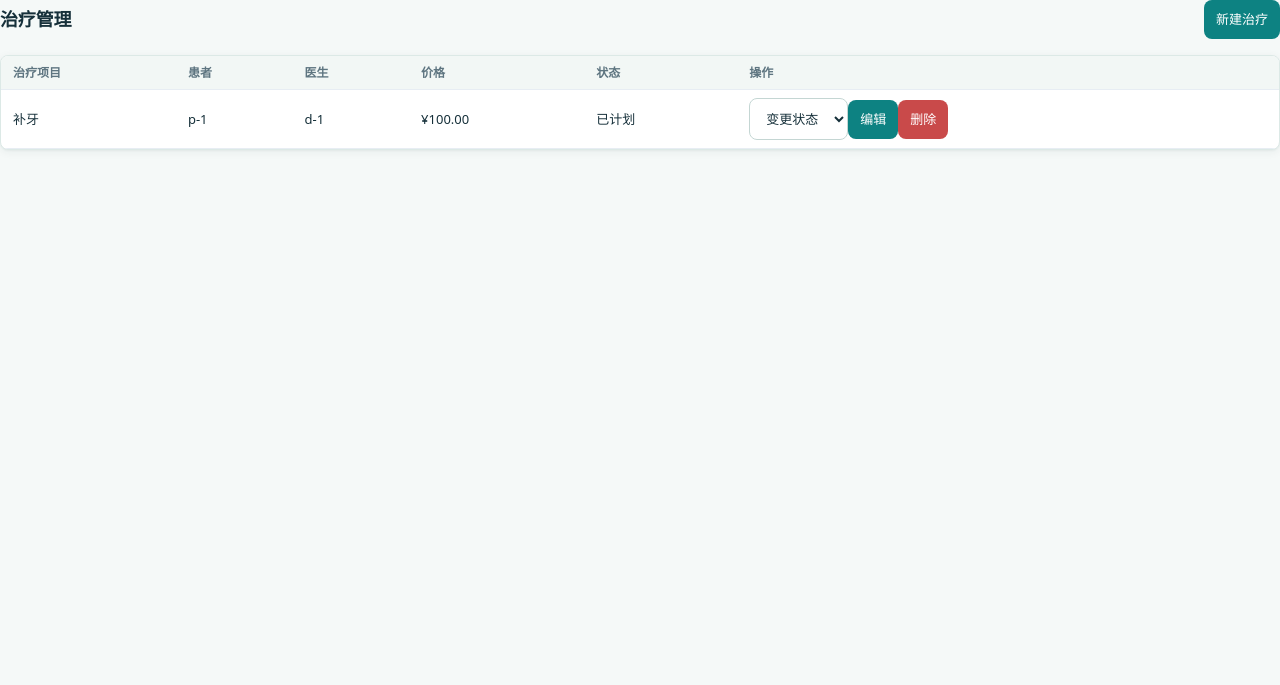
Test: TreatmentsPage › creates a treatment with cents payload and transitions status
This screenshot has width=1280, height=685.
Expected: the text "补牙" is shown, [1,90,176,149]
Click the button "新建治疗": click(1242, 19) [1204,0,1279,39]
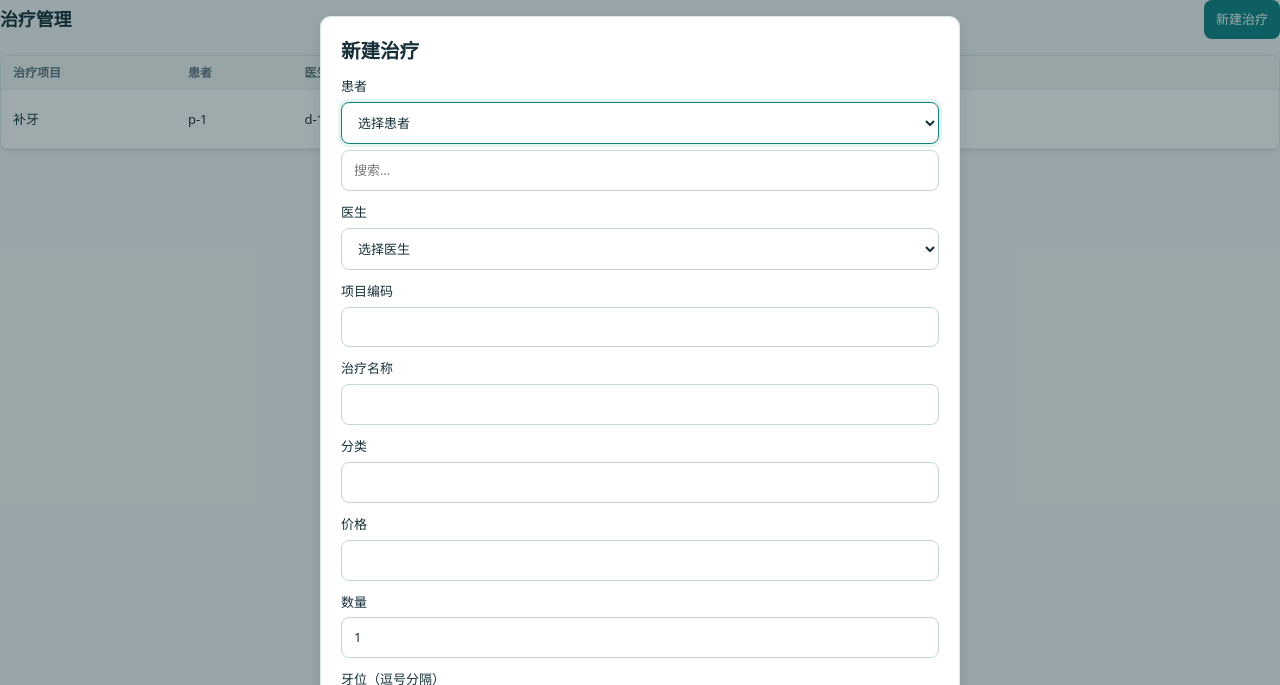
Select "患者甲" in the dropdown labelled "患者": (640, 123) [341,102,939,144]
Select "张医生" in the dropdown labelled "医生": (640, 249) [341,228,939,270]
In the field labelled "治疗名称": (640, 405) [341,384,939,425], type "洁牙"
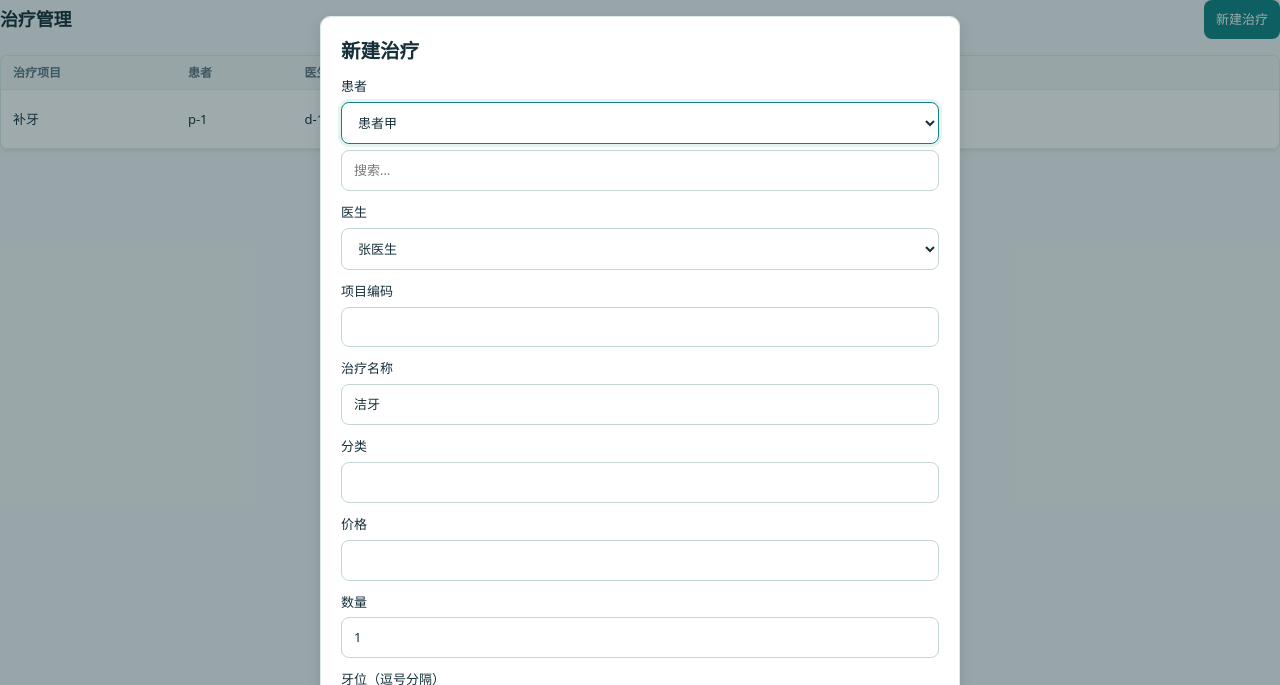
In the number field labelled "价格": (640, 560) [341,540,939,580], type "200"
(page scrolled)
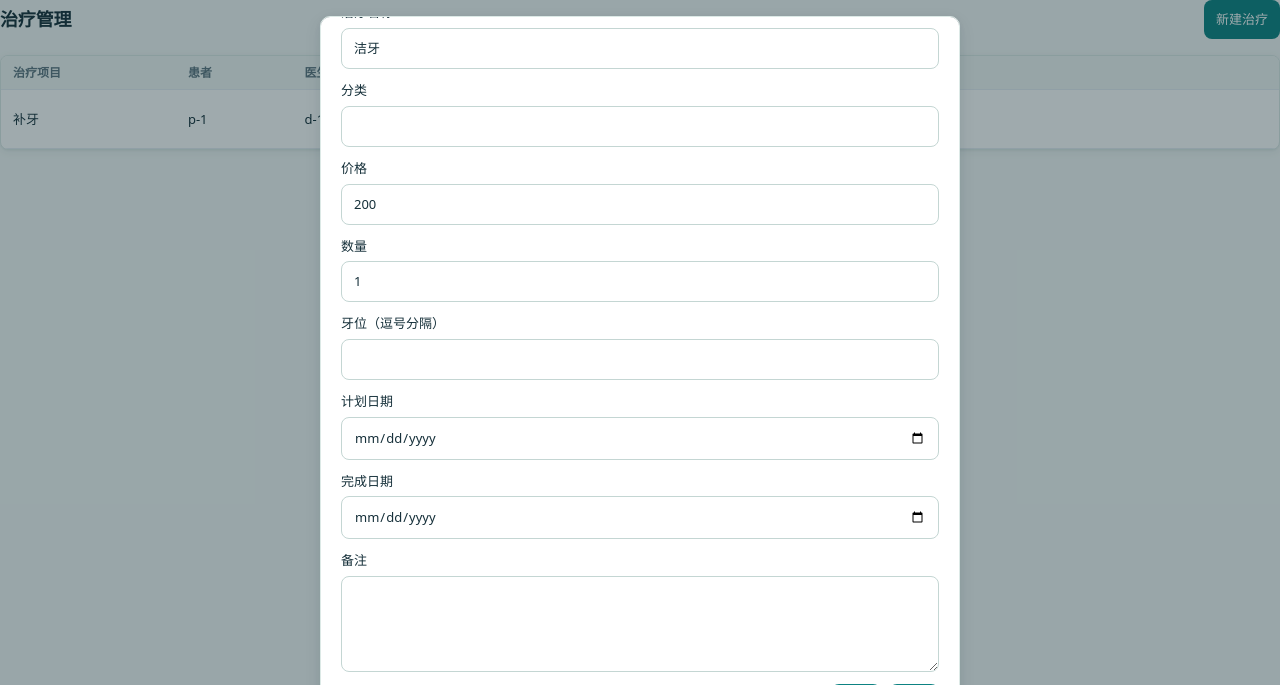
In the field labelled "牙位（逗号分隔）": (640, 360) [341,339,939,380], type "11,21"
(page scrolled)
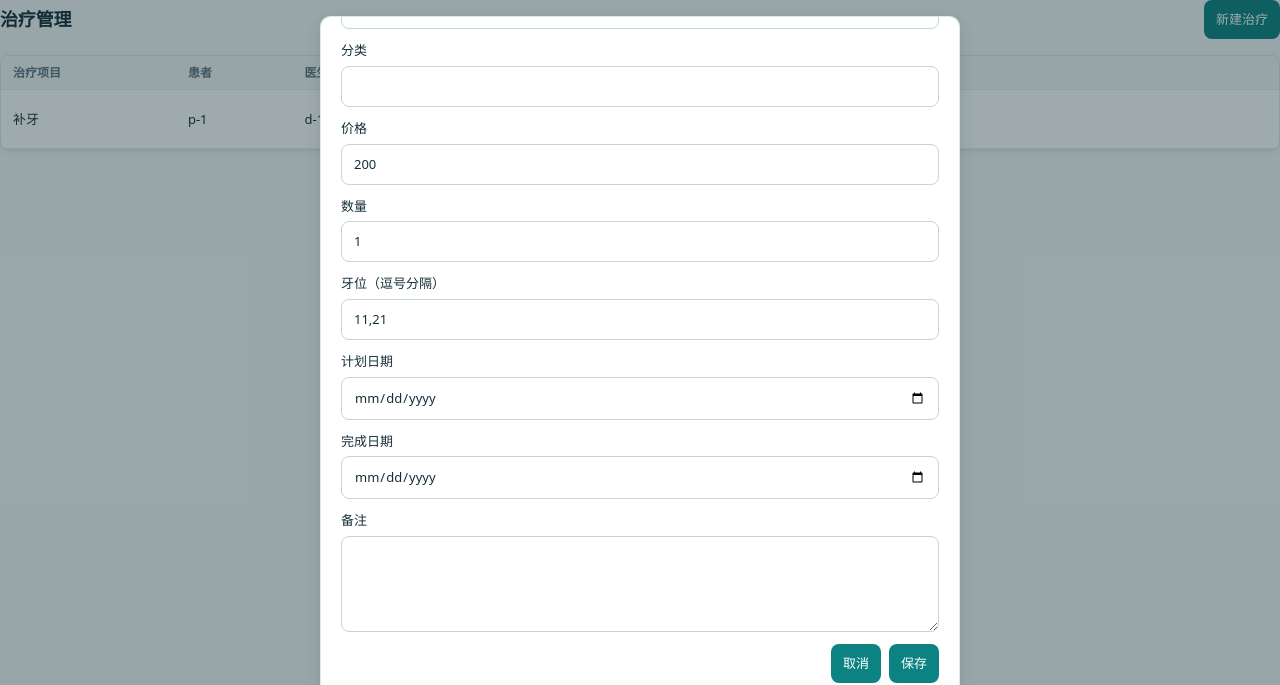
Click the button "保存": click(914, 664) [889,644,939,683]
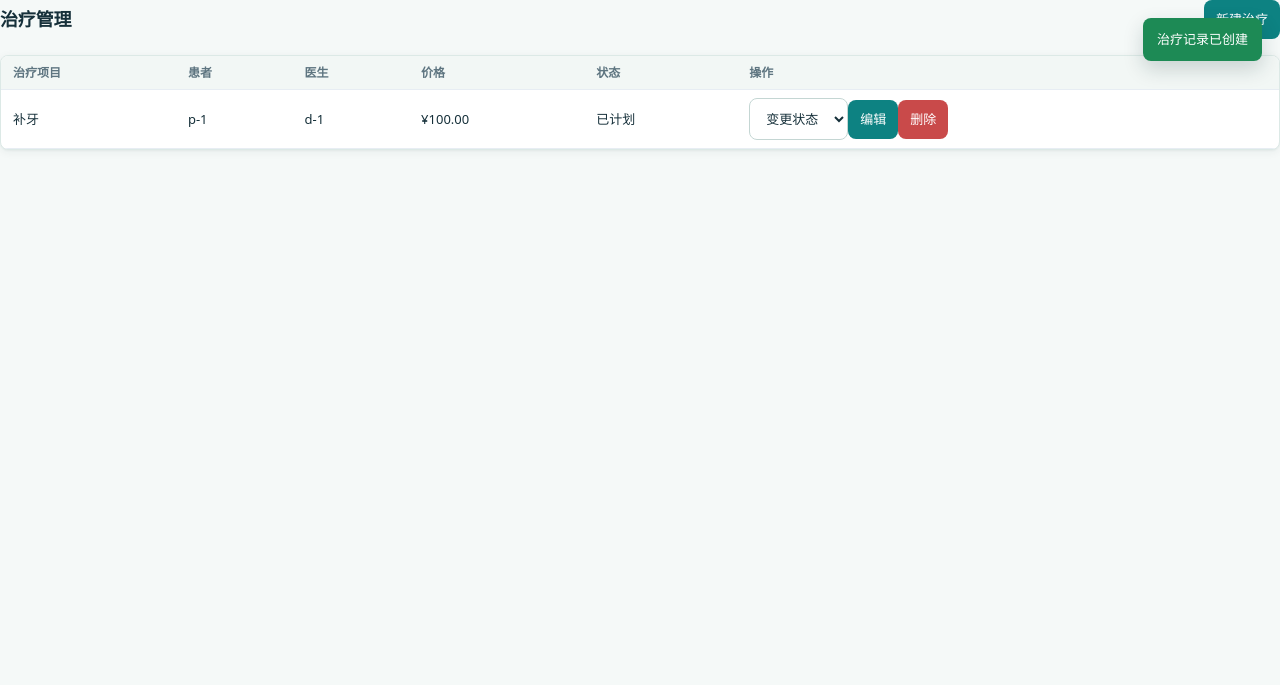
Result: the text "治疗记录已创建" is shown at [1143,18,1262,61]
Select "进行中" in the dropdown named "变更治疗状态": (799, 119) [749,98,848,140]
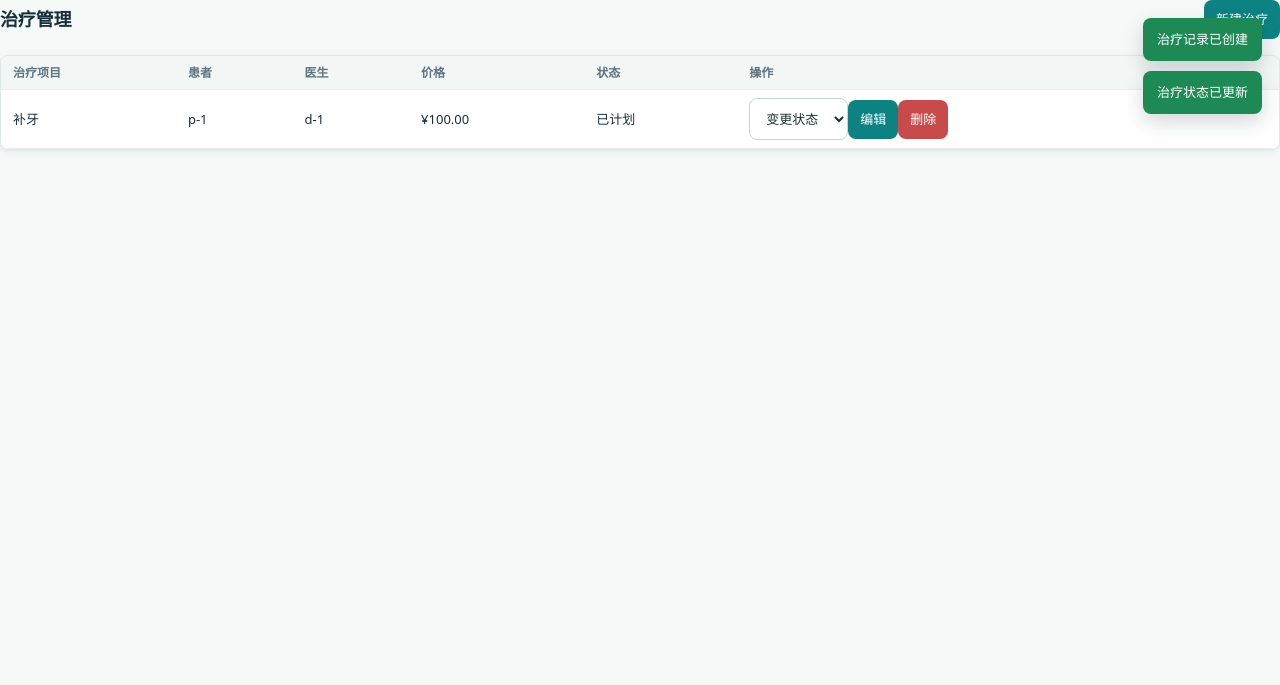
Result: the text "治疗状态已更新" is shown at [1143,71,1262,114]
